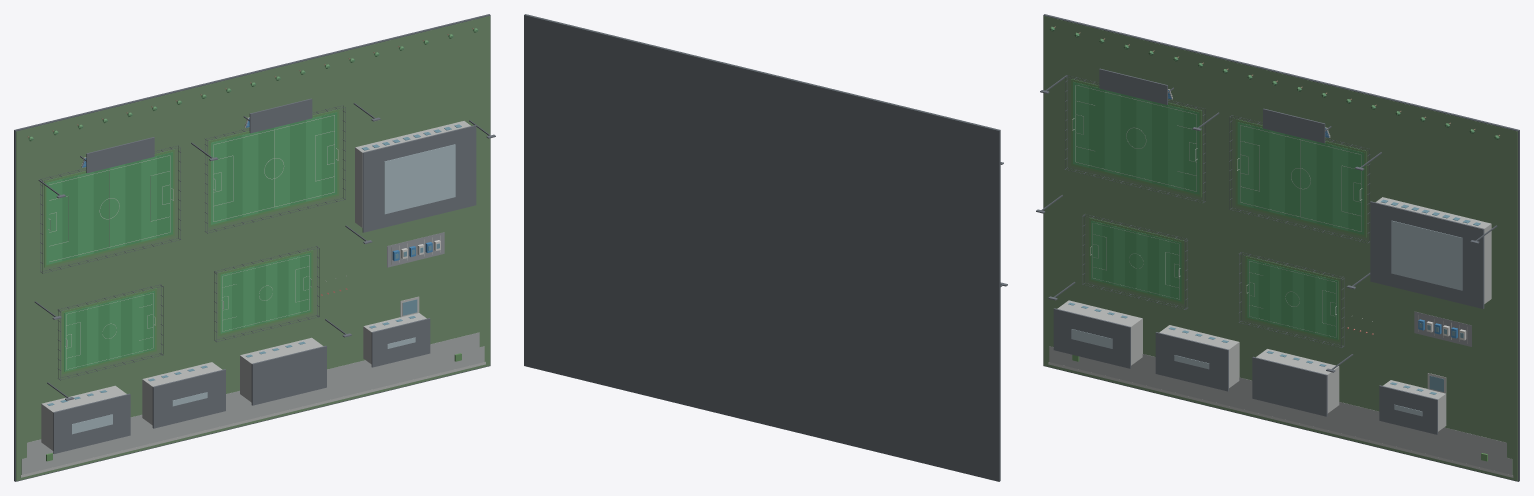
File: training_ground_level_5.glb
3 views of the same model, side by side, from view 1: azimuth 30°, elevation 25°; view 2: azimuth 150°, elevation 25°; view 3: azimuth 330°, elevation 25° (orthographic).
Parts seen in each view (by area): view 1: base, roof, grass3, grass2, paving, concrete, dark, rooflight, hedge, lines, track, glass; view 2: dark; view 3: base, roof, grass3, grass2, paving, concrete, dark, rooflight, hedge, lines, track, glass.
Boxes of the visible parts, x1,y1,x2,y2 form: base: (16,16,490,481); roof: (52,98,495,453); grass3: (62,112,337,368); grass2: (46,116,321,371); paving: (21,332,484,474); concrete: (20,117,485,477); dark: (14,14,490,481); rooflight: (72,144,455,434); hedge: (44,109,461,461); lines: (49,115,334,369); track: (387,232,444,267); glass: (47,124,461,405); dark: (524,14,1002,481); base: (1043,16,1517,481); roof: (1036,68,1484,434); grass3: (1089,86,1364,339); grass2: (1073,82,1348,336); paving: (1049,346,1512,474); concrete: (1048,89,1513,477); dark: (1041,14,1519,481); rooflight: (1071,220,1462,416); hedge: (1071,79,1487,461); lines: (1075,85,1361,337); track: (1414,311,1471,346); glass: (1068,199,1480,394).
Size of the model in its own units: 231 by 163 by 20.62.
